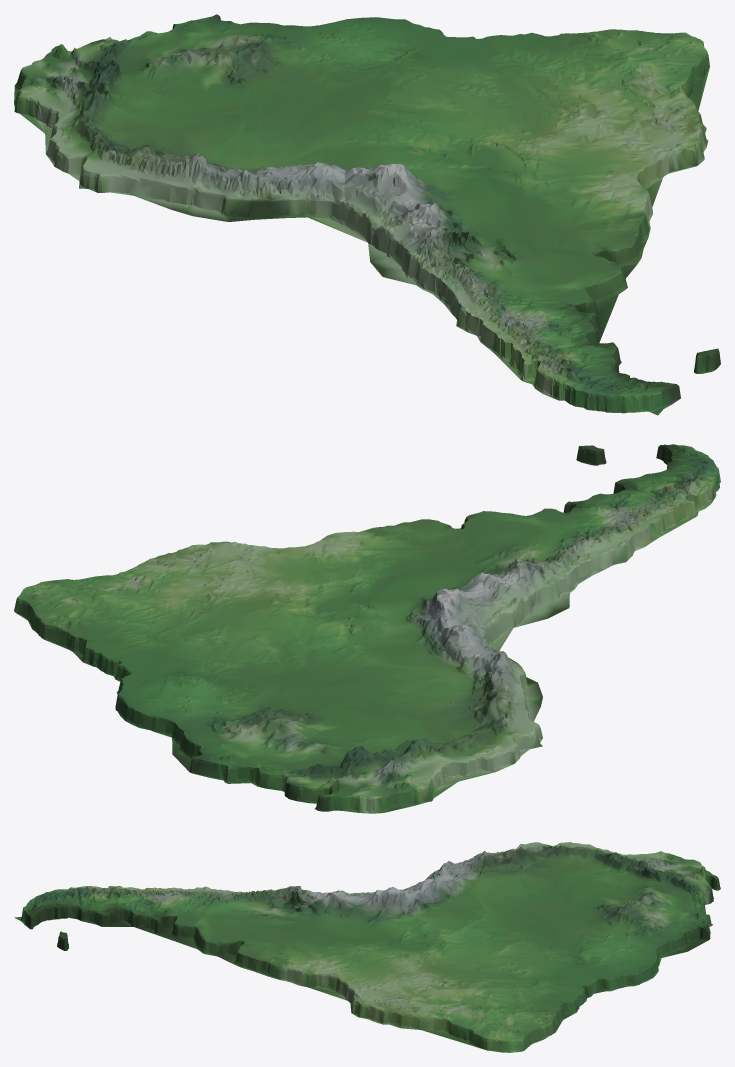
Rendered from mapMesh.FBX.
The picture shows the model from 3 angles, top to bottom: view 1: azimuth 30°, elevation 25°; view 2: azimuth 150°, elevation 25°; view 3: azimuth 270°, elevation 25°; orthographic projection. The views are drawn at different scales.
Parts seen in each view (by area): view 1: Plane2_003; view 2: Plane2_003; view 3: Plane2_003.
Part boxes in pixels (bbox=[...]): Plane2_003: bbox=[14, 14, 720, 415]; Plane2_003: bbox=[14, 444, 720, 813]; Plane2_003: bbox=[14, 842, 720, 1052].
Size of the model in its own units: 55.19 by 81.31 by 4.17.
